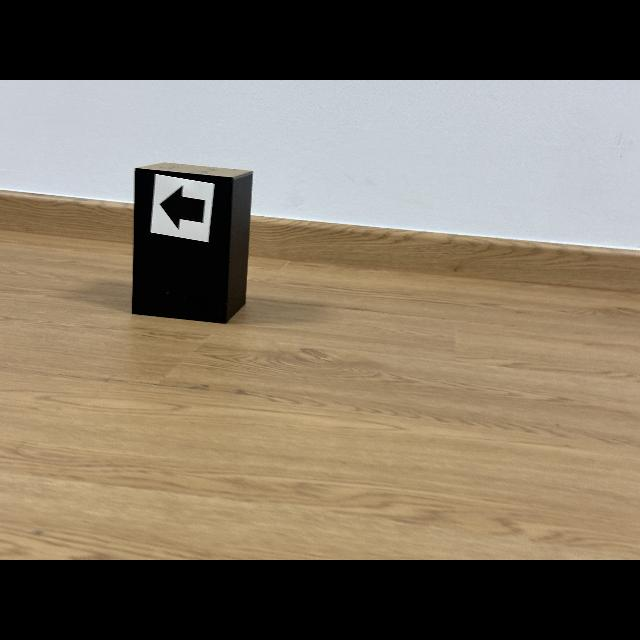LEFT: (160, 186, 205, 229)
